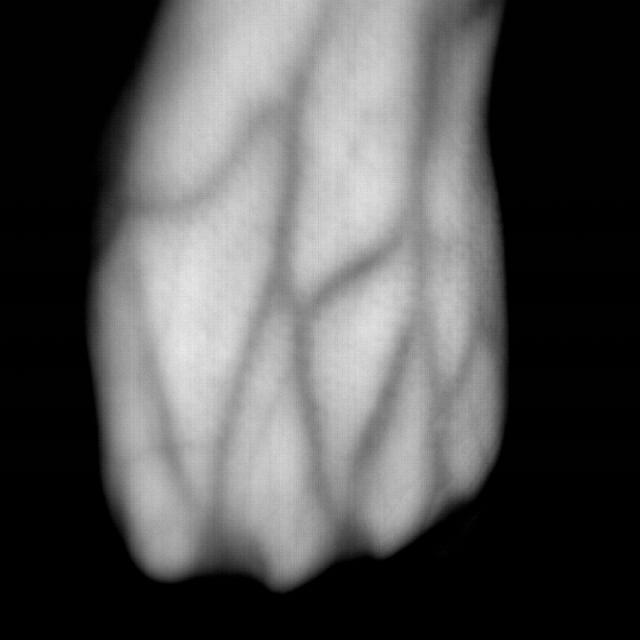Vein: (201, 30, 435, 441)
